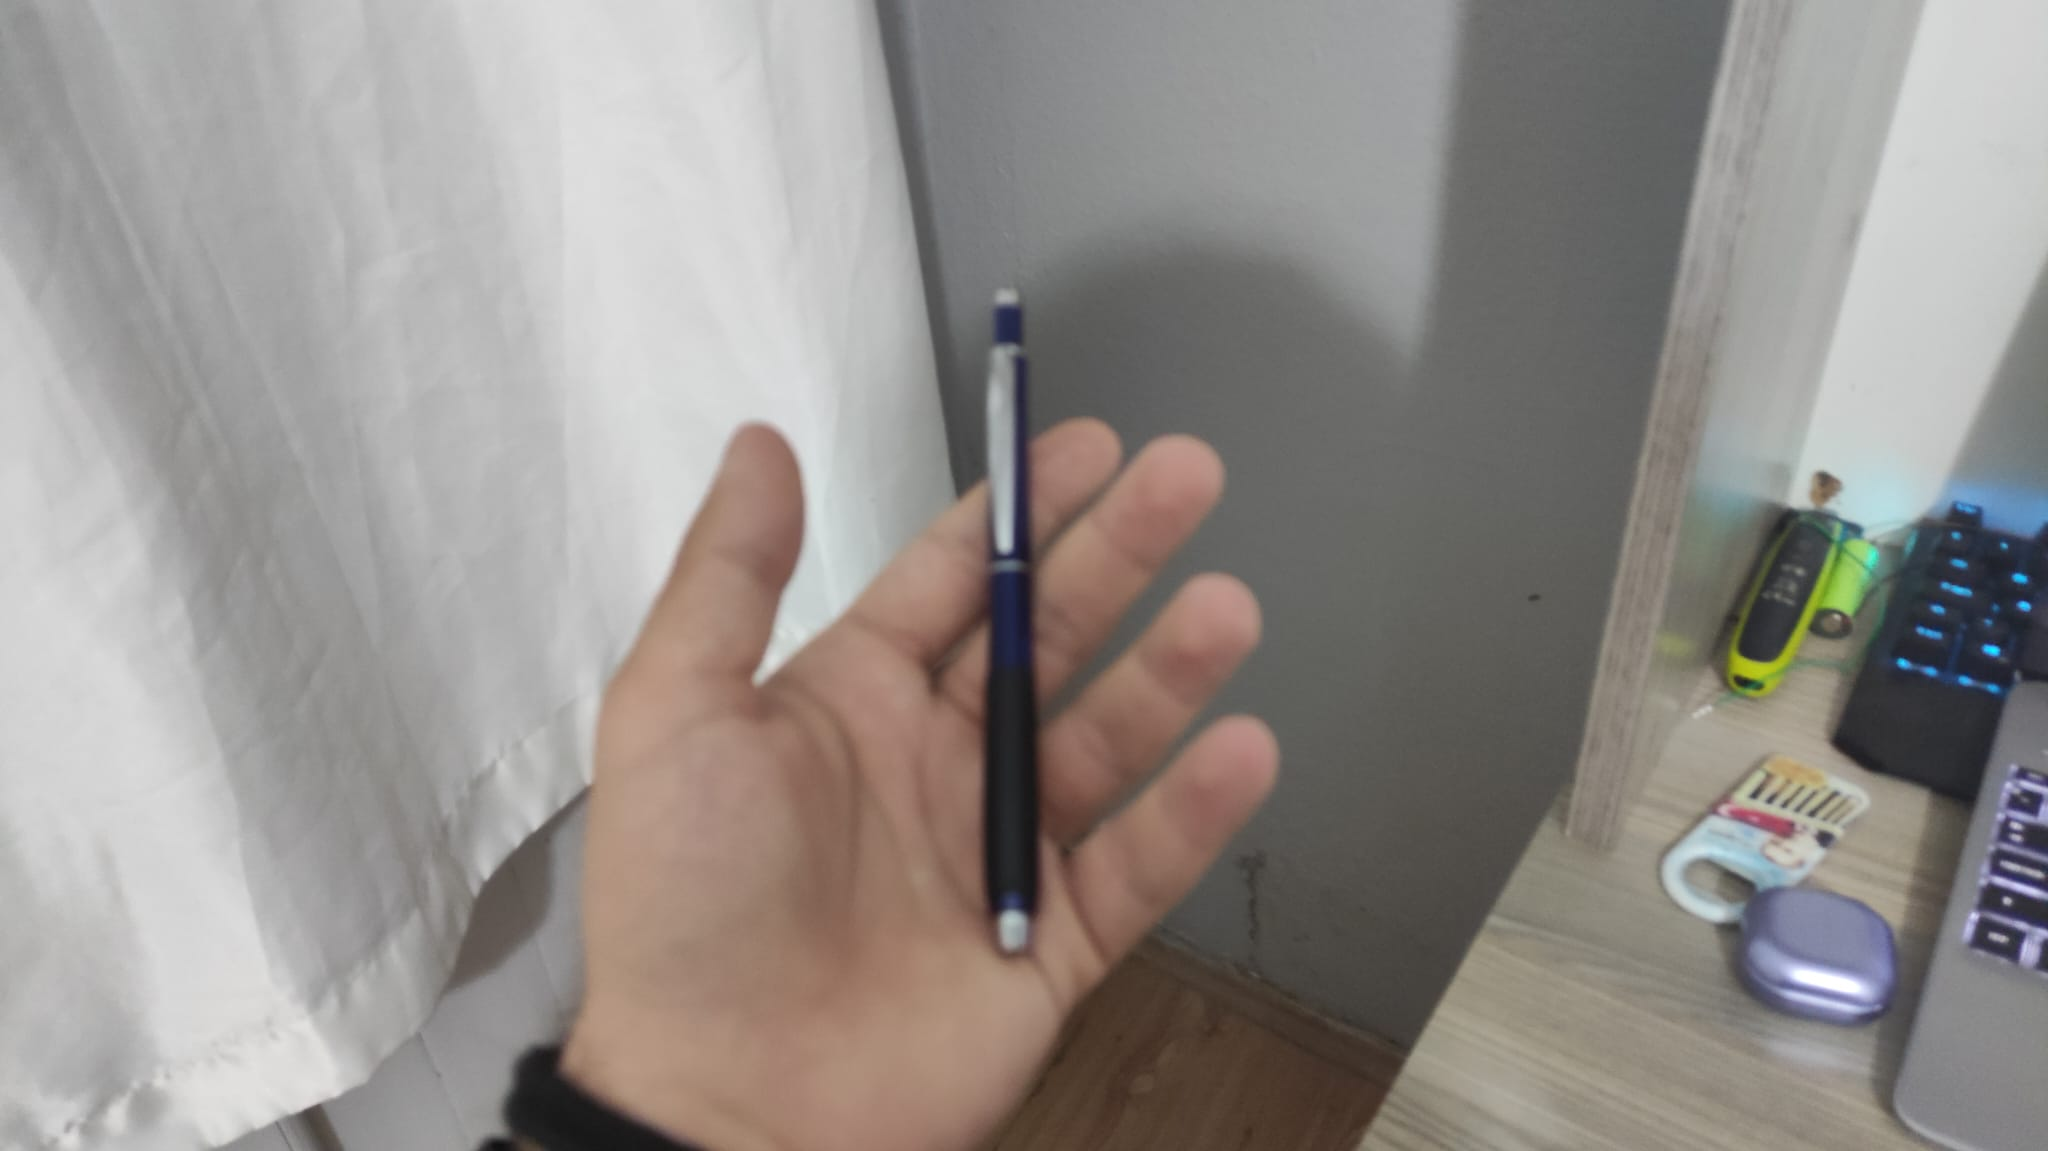kalem: (979, 283, 1044, 958)
